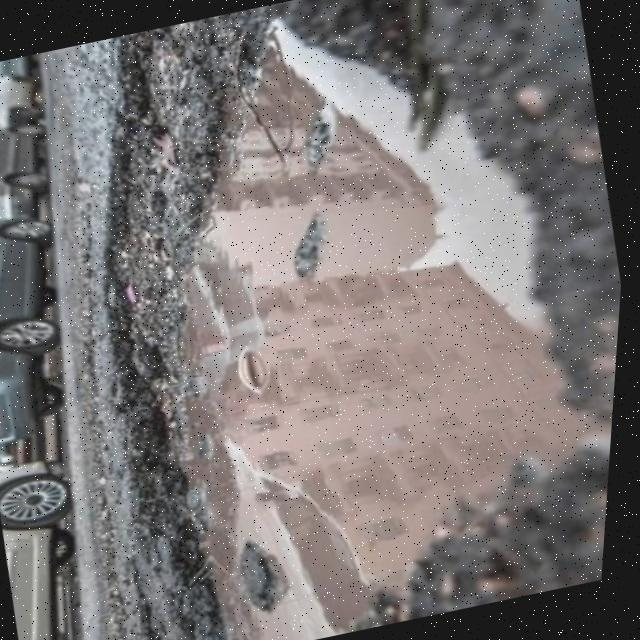Pothole: (36, 0, 640, 640)
